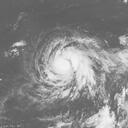cyclone: (33, 35, 97, 93)
